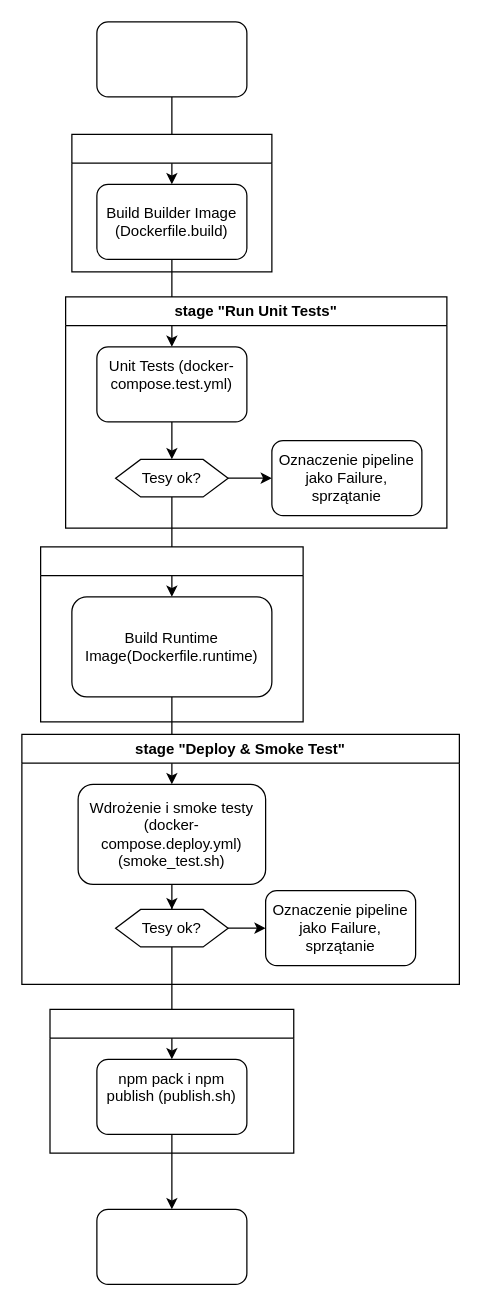
This 481x1306 diagram has some shape labels left out. Each missing label, with the centre of its shape:
Oznaczenie pipeline jako Success: the point at 171,1246
Pobranie plików do pipelinu (SCM): the point at 171,59
stage "Build Builder": the point at 171,202
stage "Build Runtime Image": the point at 171,634
stage "Publish": the point at 171,1080
